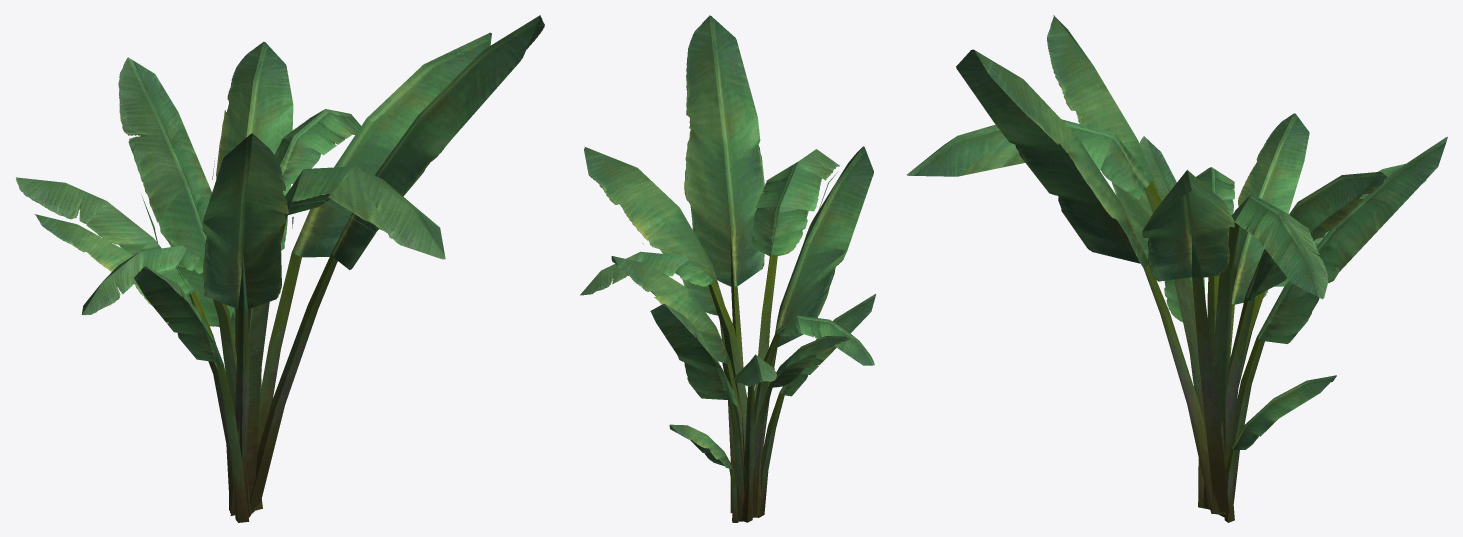
Rendered from 4001_Item_bajiaoshu_1.FBX.
3 renders of one model, left to right at view 1: azimuth 30°, elevation 25°; view 2: azimuth 150°, elevation 25°; view 3: azimuth 270°, elevation 25°, orthographic. The views are drawn at different scales.
Visible parts, largest first — view 1: 4001_Item_bajiaoshu_1; view 2: 4001_Item_bajiaoshu_1; view 3: 4001_Item_bajiaoshu_1.
Part boxes in pixels (x1=…): 4001_Item_bajiaoshu_1: x1=16, y1=15, x2=544, y2=522; 4001_Item_bajiaoshu_1: x1=580, y1=15, x2=876, y2=522; 4001_Item_bajiaoshu_1: x1=907, y1=15, x2=1447, y2=522.
Size of the model in its own units: 171 by 221 by 197.
